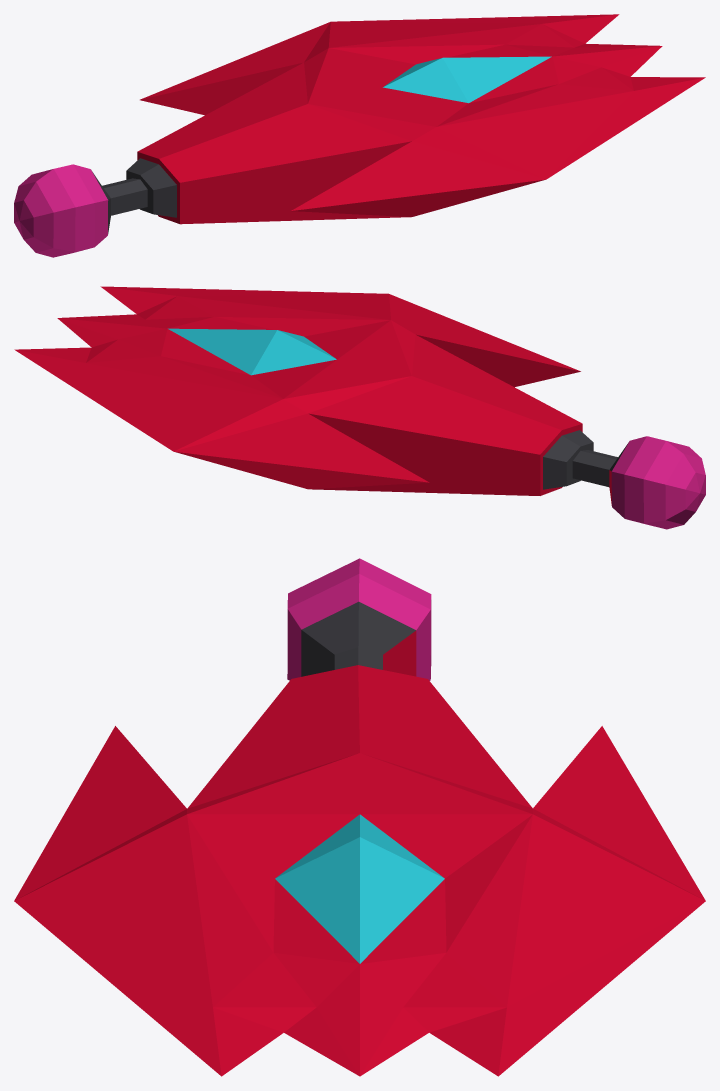
The model's file is LaserEnemy.fbx.
3 views of the same model, one above another, from view 1: azimuth 30°, elevation 25°; view 2: azimuth 150°, elevation 25°; view 3: azimuth 270°, elevation 25° (orthographic). The views are drawn at different scales.
Visible parts, largest first — view 1: Cone; view 2: Cone; view 3: Cone.
Part boxes in pixels (x1,y1,x2,y2): Cone: (14, 14, 705, 257); Cone: (14, 286, 705, 529); Cone: (14, 558, 705, 1076).
Size of the model in its own units: 344 by 56.8 by 200.
